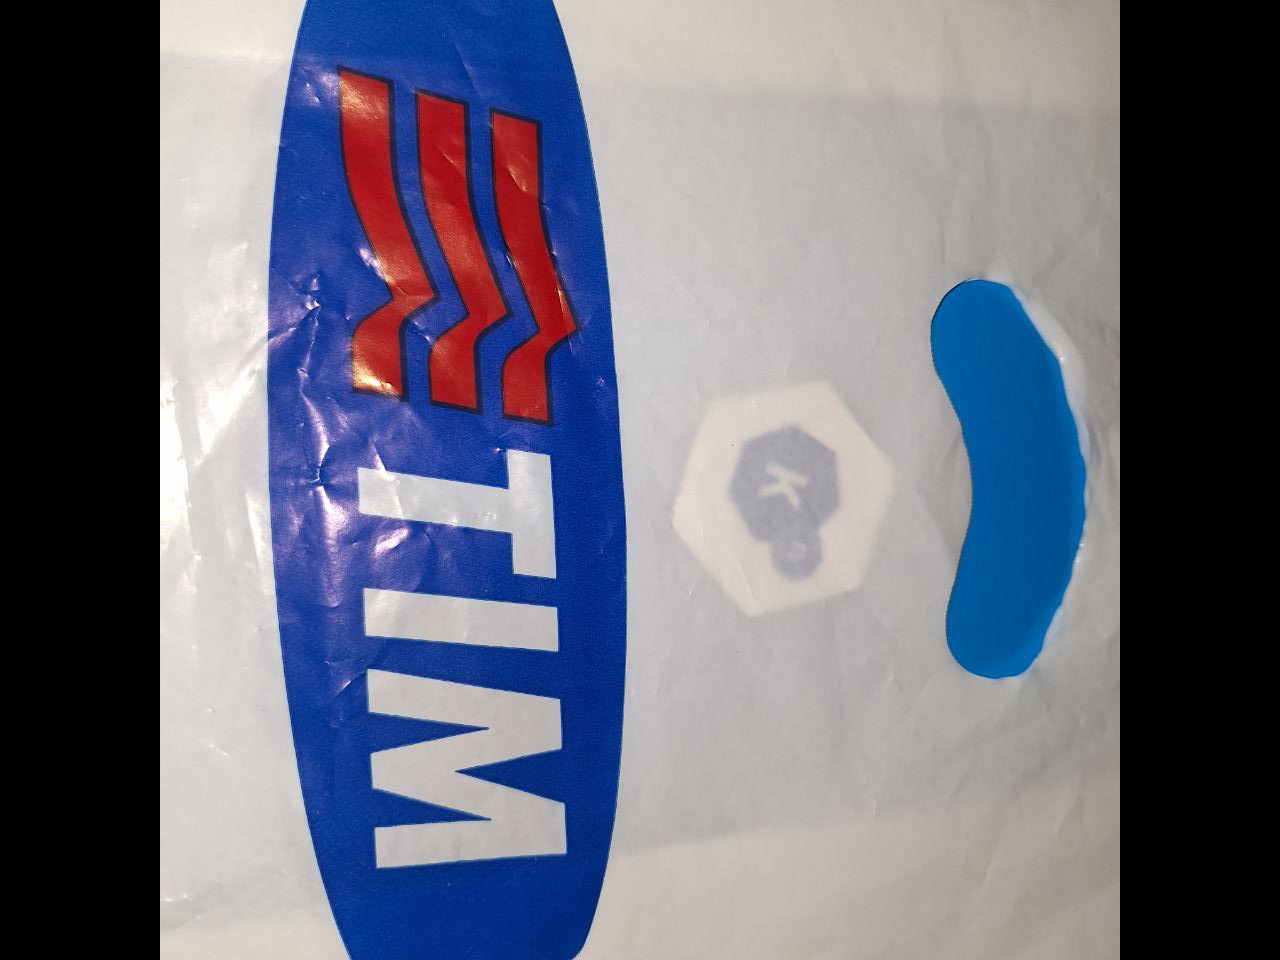knative: (727, 421, 842, 584)
